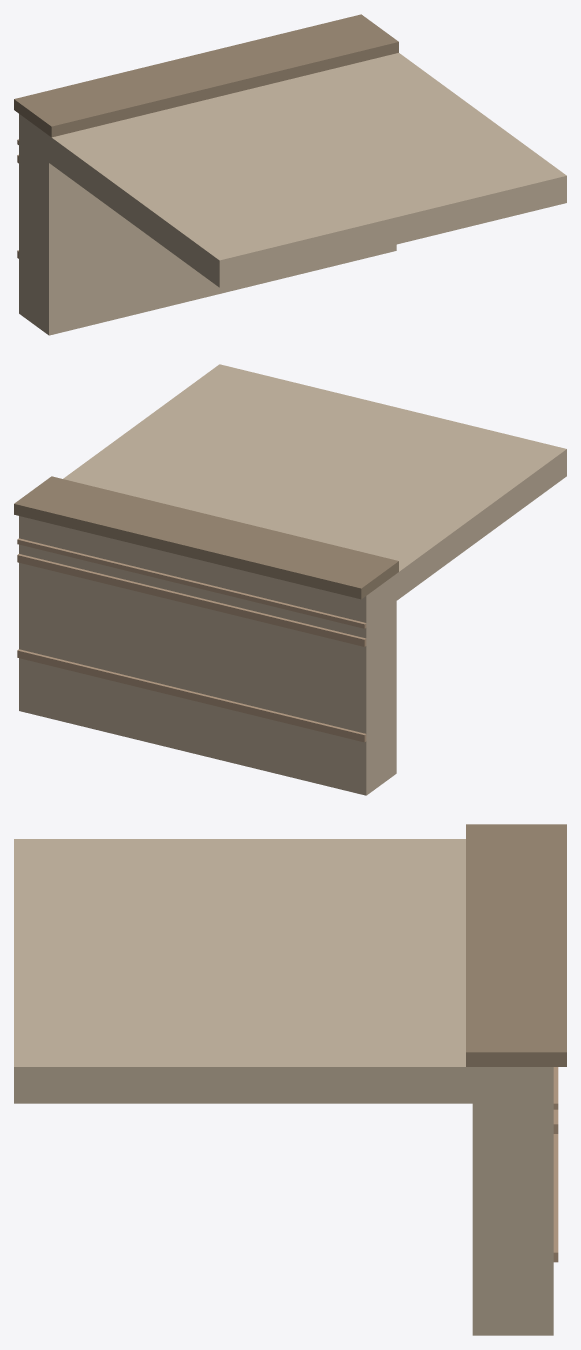
The model's file is city_canal_bank_4.glb.
The picture shows the model from 3 angles, top to bottom: view 1: azimuth 30°, elevation 25°; view 2: azimuth 150°, elevation 25°; view 3: azimuth 270°, elevation 25°; orthographic projection. The views are drawn at different scales.
Visible parts, largest first — view 1: CityCanalBank4_Paving, CityCanalBank4_Wall, CityCanalBank4_Coping; view 2: CityCanalBank4_Wall, CityCanalBank4_Paving, CityCanalBank4_Coping, CityCanalBank4_Strata2, CityCanalBank4_Strata0, CityCanalBank4_Strata1; view 3: CityCanalBank4_Paving, CityCanalBank4_Coping, CityCanalBank4_Wall, CityCanalBank4_Strata2.
Boxes of the visible parts, left/top/right/bottom form: CityCanalBank4_Paving: left=49, top=53, right=566, bottom=287; CityCanalBank4_Wall: left=19, top=114, right=396, bottom=335; CityCanalBank4_Coping: left=14, top=14, right=398, bottom=137; CityCanalBank4_Wall: left=19, top=516, right=396, bottom=795; CityCanalBank4_Paving: left=63, top=364, right=566, bottom=600; CityCanalBank4_Coping: left=14, top=476, right=398, bottom=599; CityCanalBank4_Strata2: left=17, top=649, right=366, bottom=742; CityCanalBank4_Strata0: left=17, top=554, right=366, bottom=646; CityCanalBank4_Strata1: left=17, top=538, right=366, bottom=628; CityCanalBank4_Paving: left=14, top=839, right=472, bottom=1103; CityCanalBank4_Coping: left=466, top=824, right=566, bottom=1066; CityCanalBank4_Wall: left=472, top=1067, right=553, bottom=1335; CityCanalBank4_Strata2: left=553, top=1134, right=558, bottom=1262.
Bounding box in the file's own units: 4 × 2.32 × 4.1.
